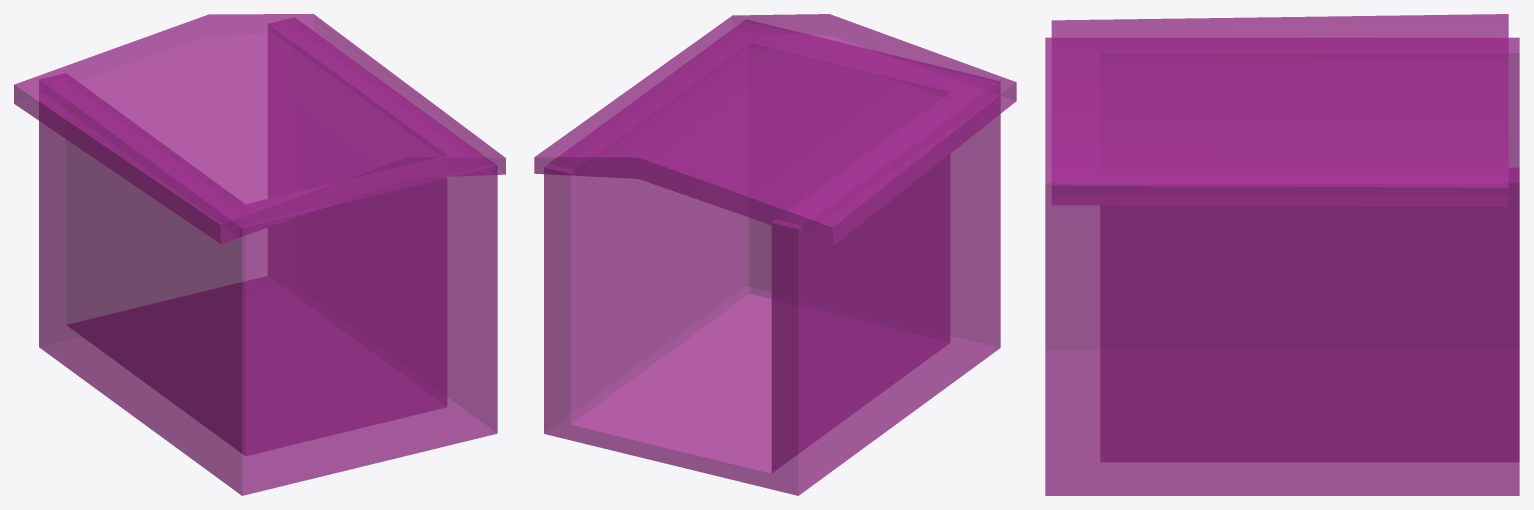
Rendered from SM_Prop_Crane_Cockpit_02_Collision.fbx.
The picture shows the model from 3 angles, left to right: view 1: azimuth 30°, elevation 25°; view 2: azimuth 150°, elevation 25°; view 3: azimuth 270°, elevation 25°; orthographic projection. The views are drawn at different scales.
Visible parts, largest first — view 1: SM_Prop_Crane_Cockpit_02_Collision; view 2: SM_Prop_Crane_Cockpit_02_Collision; view 3: SM_Prop_Crane_Cockpit_02_Collision.
Part boxes in pixels (x1,y1,x2,y2): SM_Prop_Crane_Cockpit_02_Collision: (14,14,505,495); SM_Prop_Crane_Cockpit_02_Collision: (534,14,1016,495); SM_Prop_Crane_Cockpit_02_Collision: (1045,14,1519,495).
Bounding box in the file's own units: 286 × 270 × 336.
